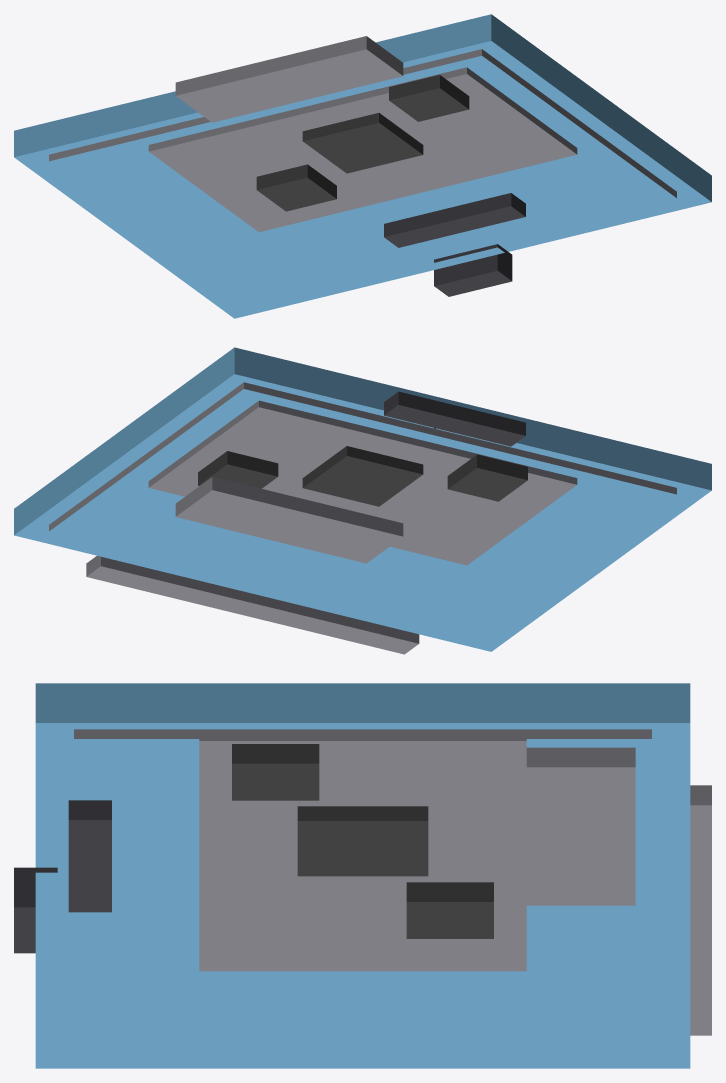
File: touch_screen.gltf
The picture shows the model from 3 angles, top to bottom: view 1: azimuth 30°, elevation 25°; view 2: azimuth 150°, elevation 25°; view 3: azimuth 270°, elevation 25°; orthographic projection. The views are drawn at different scales.
Parts seen in each view (by area): view 1: touch_screen; view 2: touch_screen; view 3: touch_screen.
Part boxes in pixels (box(x1,y1,x2,y2)): touch_screen: box(14, 14, 711, 318); touch_screen: box(14, 347, 711, 654); touch_screen: box(14, 683, 711, 1068).
Size of the model in its own units: 0.075 by 0.0115 by 0.064.
